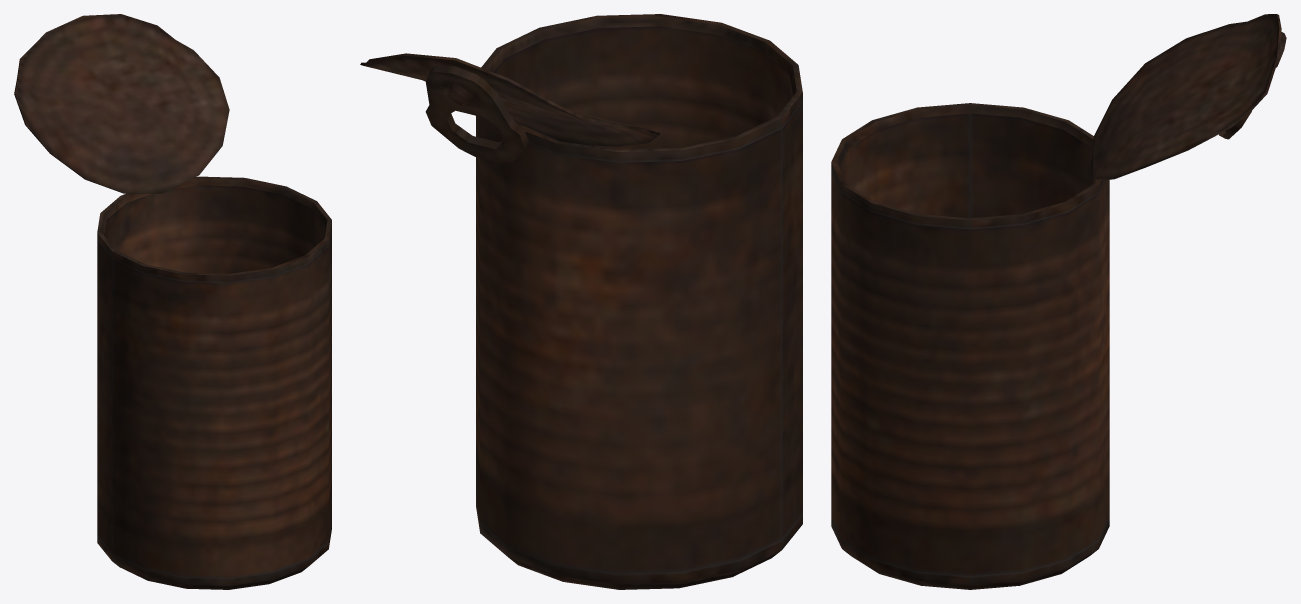
File: tin_can_mp_1_rusty.obj
3 renders of one model, left to right at view 1: azimuth 30°, elevation 25°; view 2: azimuth 150°, elevation 25°; view 3: azimuth 270°, elevation 25°, orthographic. The views are drawn at different scales.
Parts seen in each view (by area): view 1: tin_can_mp_1_rusty; view 2: tin_can_mp_1_rusty; view 3: tin_can_mp_1_rusty.
Boxes of the visible parts, box(x1,y1,x2,y2) form: tin_can_mp_1_rusty: box(14, 14, 331, 589); tin_can_mp_1_rusty: box(360, 14, 802, 589); tin_can_mp_1_rusty: box(831, 14, 1286, 589).
Size of the model in its own units: 0.112 by 0.2256 by 0.1833.
